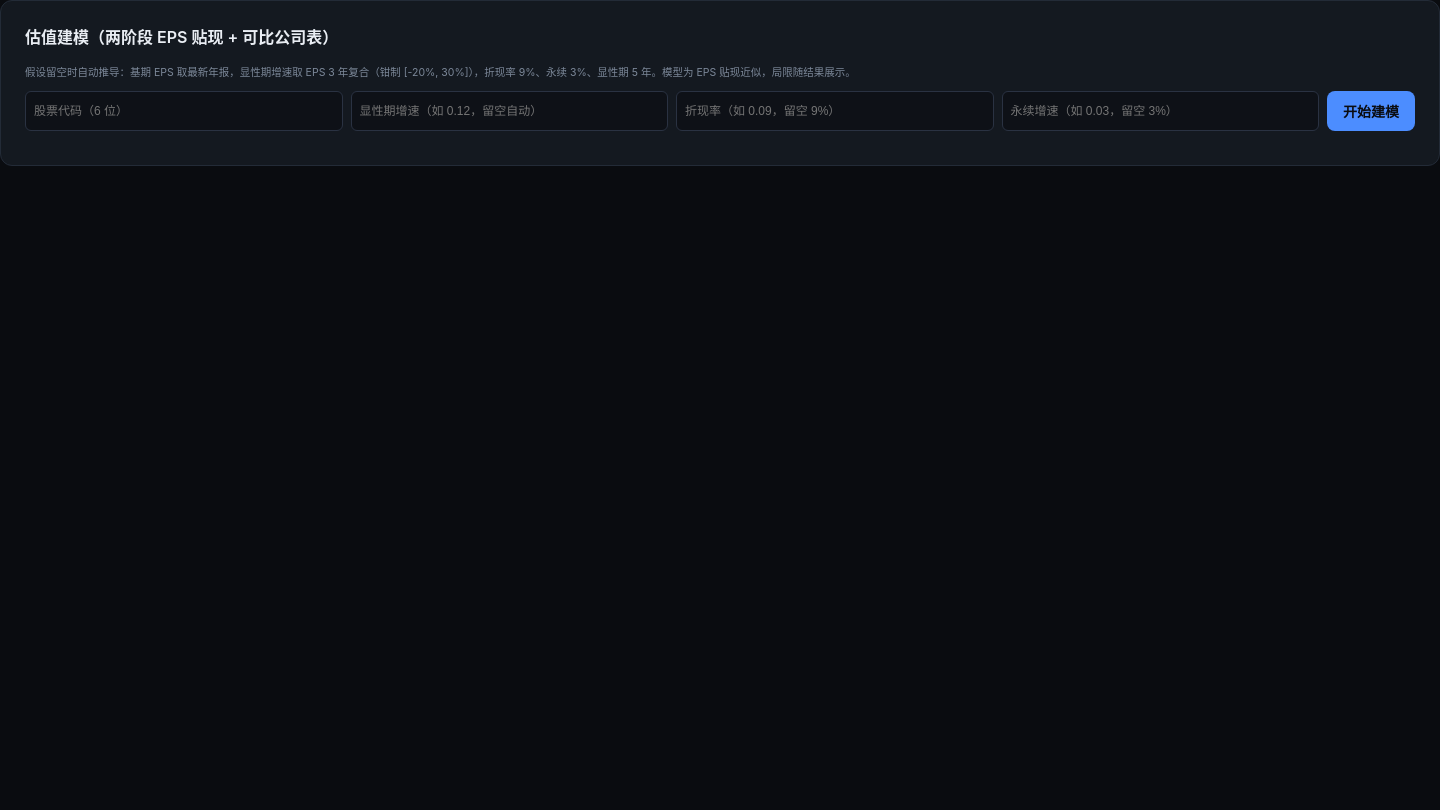
it: ValuationPanel —— 表单与入参校验 › 失败：显示中文错误横幅、按钮恢复可点，重试成功后横幅消失
In the field named "待估值的股票代码（6 位数字）": (184, 111) [25,91,342,131], type "600519"
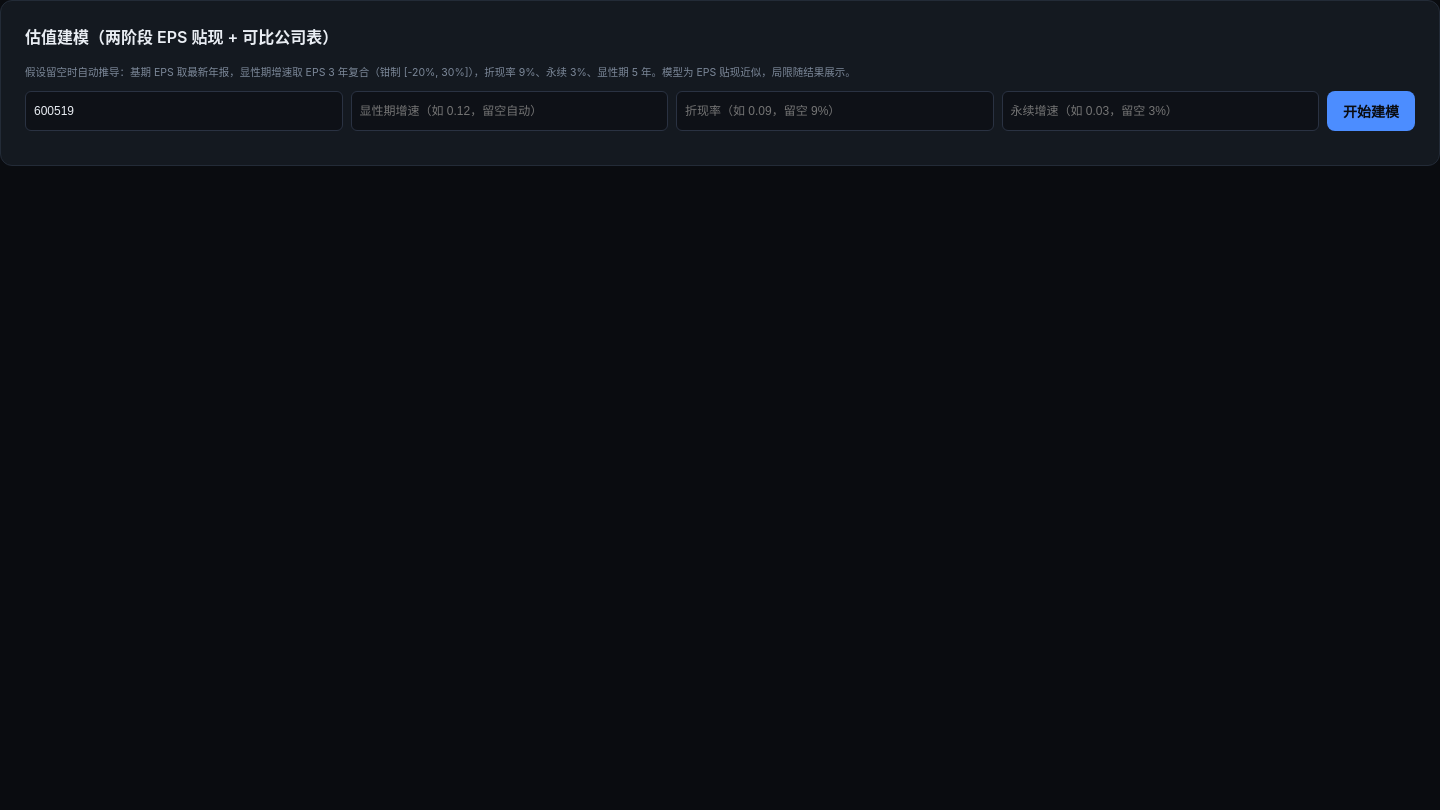
Click the button "开始建模": (1371, 111) [1327,91,1415,131]
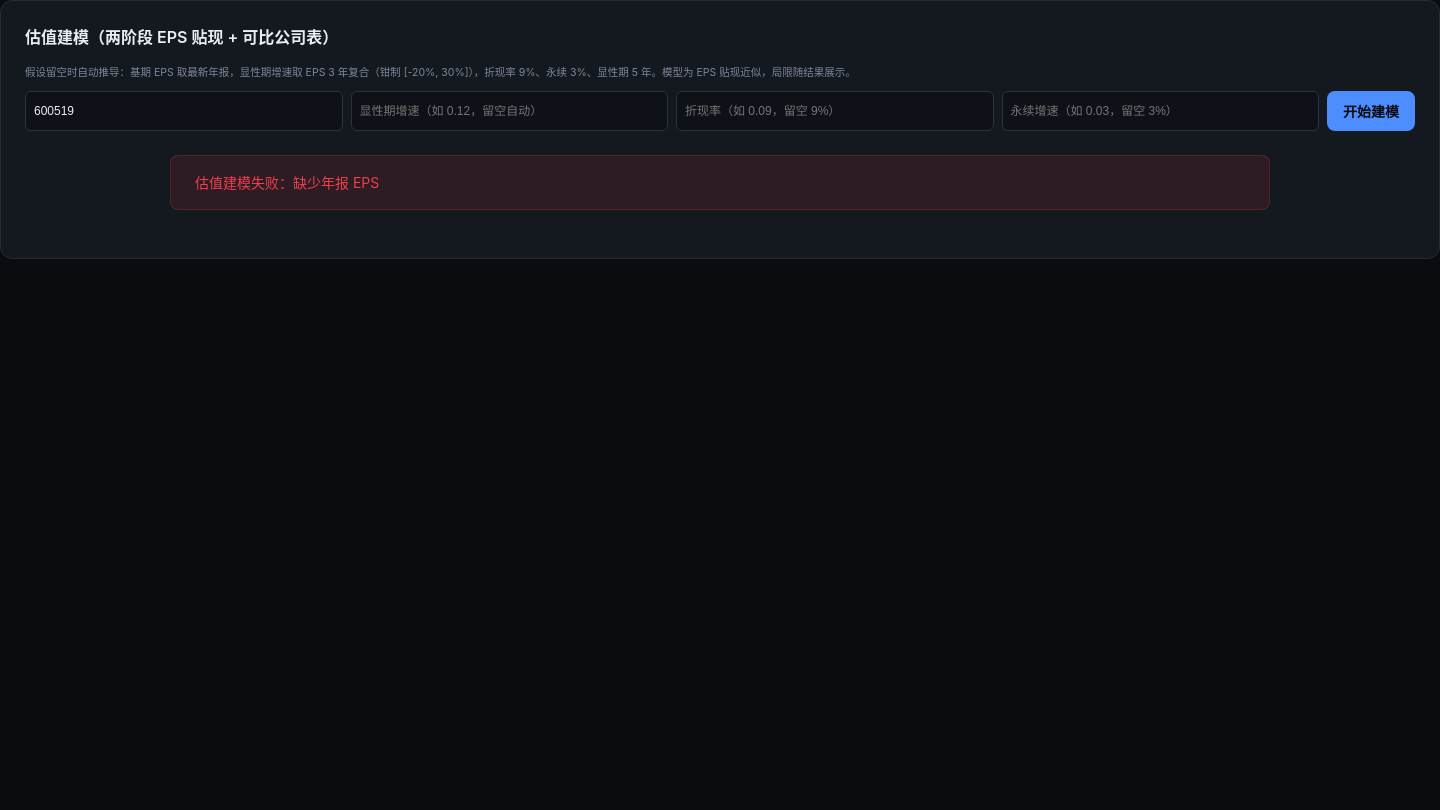
Expected: the text "估值建模失败：缺少年报 EPS" is shown, [170,155,1270,210]
Click the button "开始建模": (1371, 111) [1327,91,1415,131]
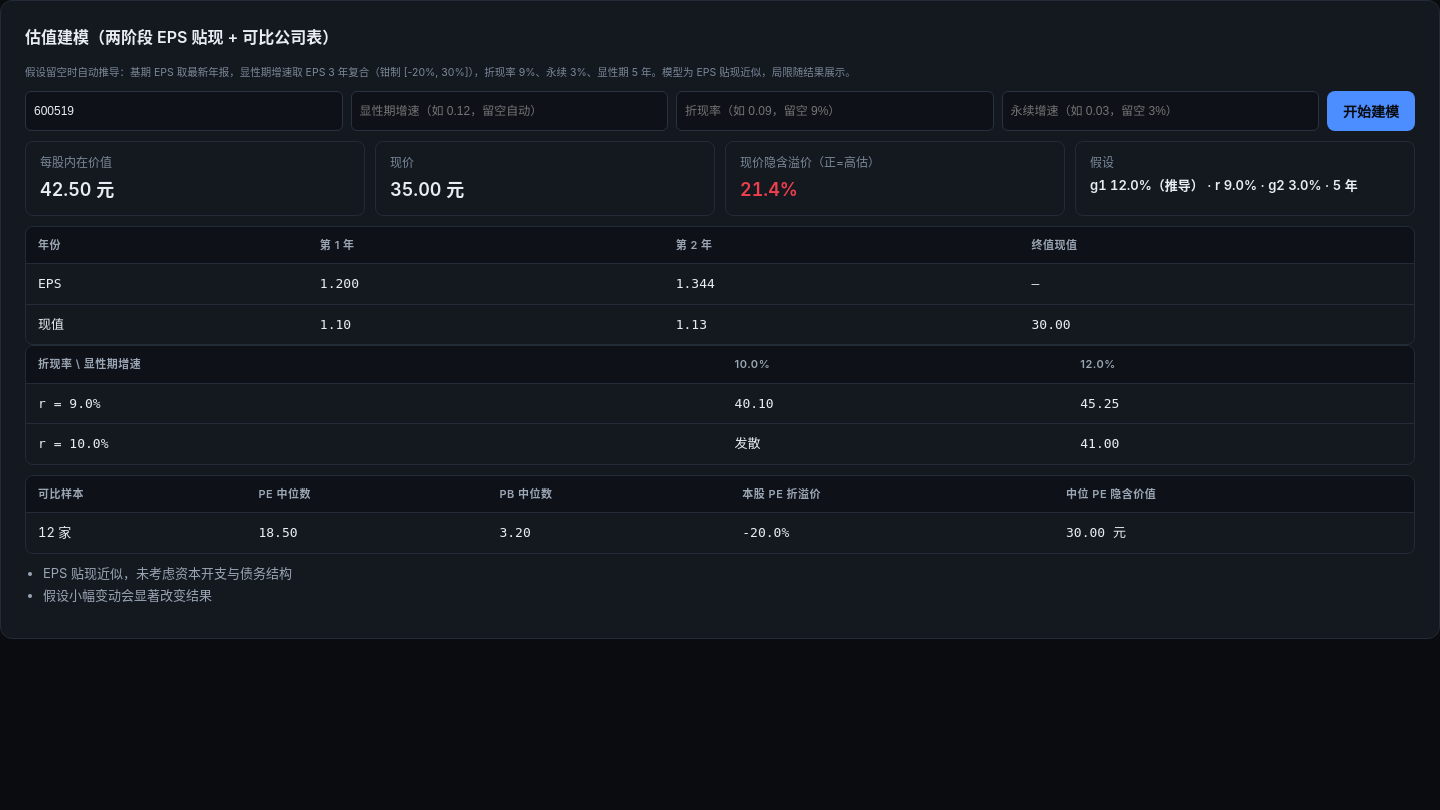
Expected: the text "每股内在价值" is shown, [40,155,112,170]
Expected: the text "估值建模失败：缺少年报 EPS" is gone
